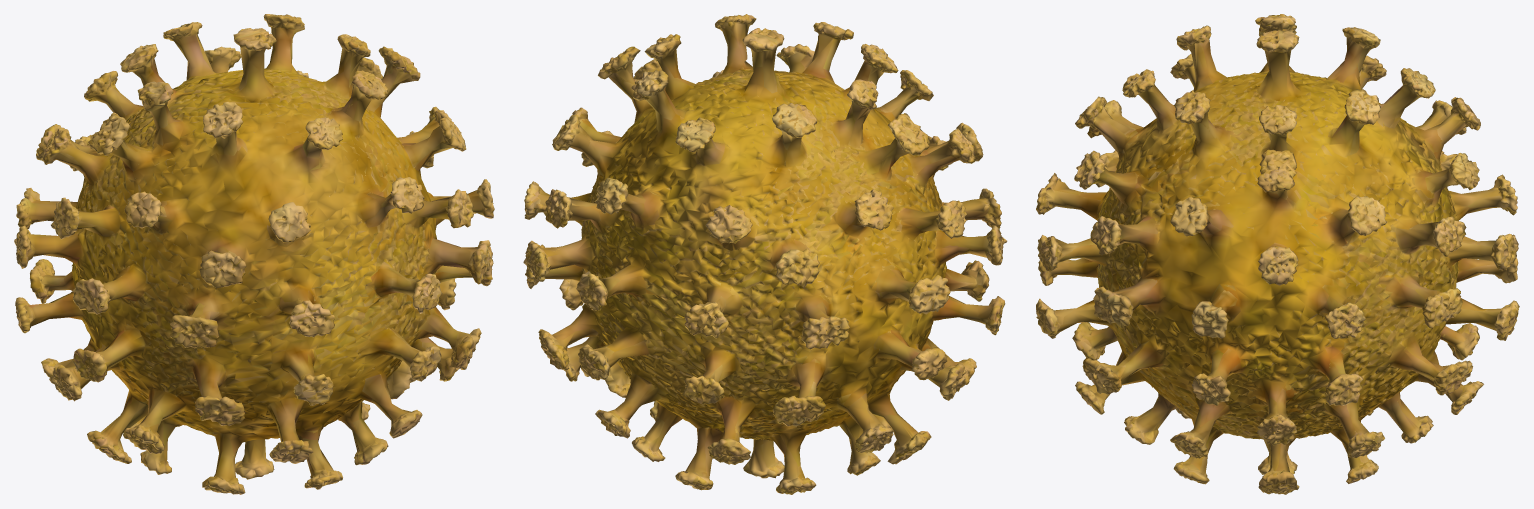
File: virus.glb
3 views of the same model, side by side, from view 1: azimuth 30°, elevation 25°; view 2: azimuth 150°, elevation 25°; view 3: azimuth 270°, elevation 25° (orthographic).
Bounding box in the file's own units: 1.99 × 2 × 1.99.
Materials: 1 (1 with a texture image).
